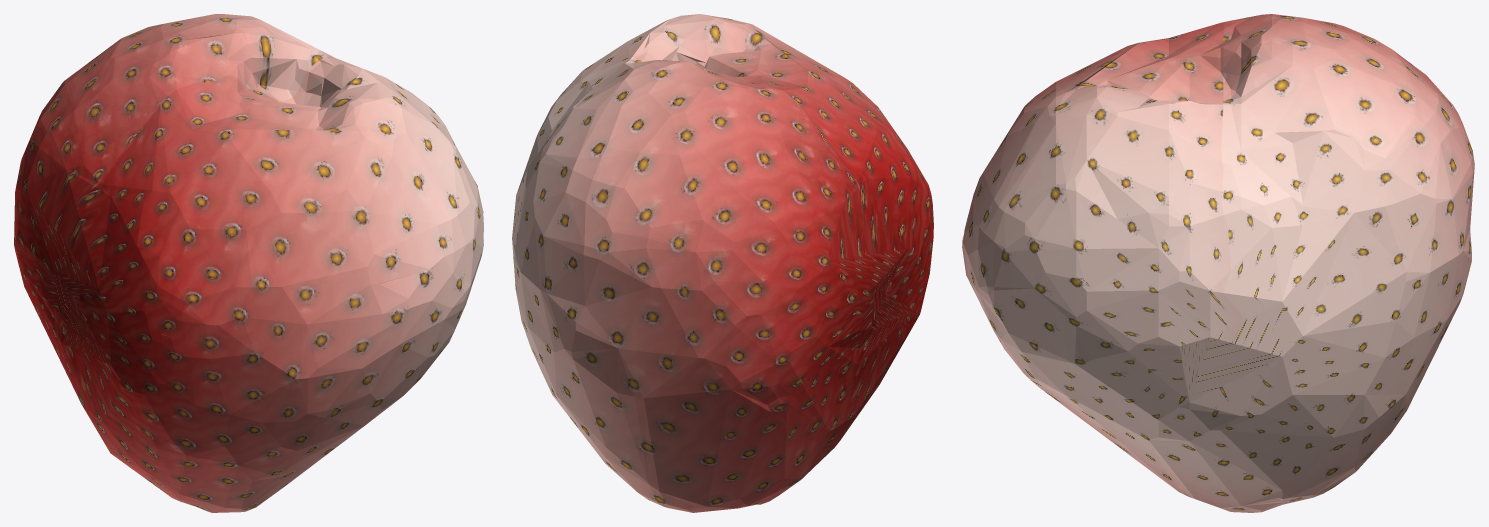
3 views of the same model, side by side, from view 1: azimuth 30°, elevation 25°; view 2: azimuth 150°, elevation 25°; view 3: azimuth 270°, elevation 25° (orthographic). The views are drawn at different scales.
Parts seen in each view (by area): view 1: _001_Meshed; view 2: _001_Meshed; view 3: _001_Meshed.
Boxes of the visible parts, box(x1,y1,x2,y2) form: _001_Meshed: box(14, 14, 483, 512); _001_Meshed: box(512, 14, 933, 512); _001_Meshed: box(962, 14, 1474, 512).
Size of the model in its own units: 0.0964 by 0.1104 by 0.1128.
Materials: 1 (1 with a texture image).
